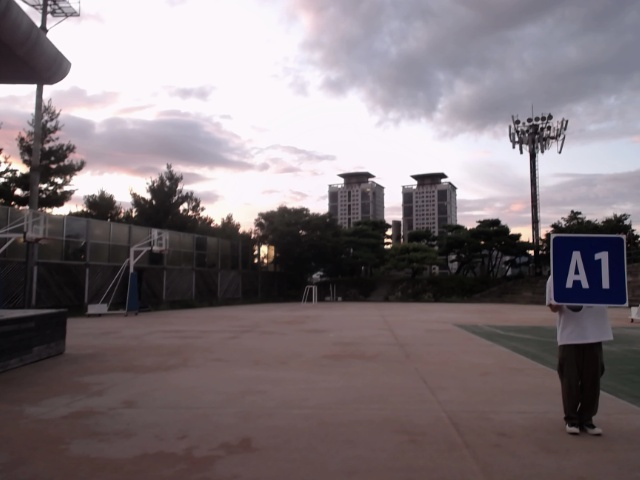delivery_a1: (551, 235, 627, 305)
